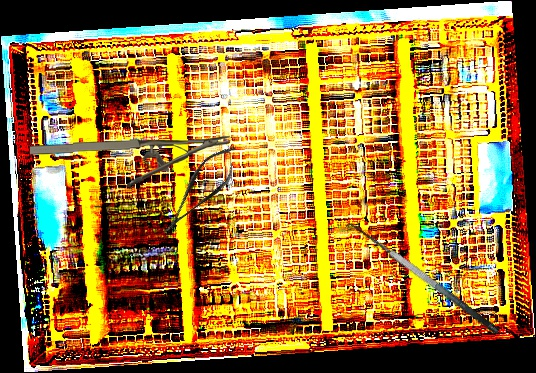Micro Scissor: (150, 136, 249, 245)
Needle Holder: (30, 135, 231, 189)
Spatula Surgical: (339, 213, 502, 349)
